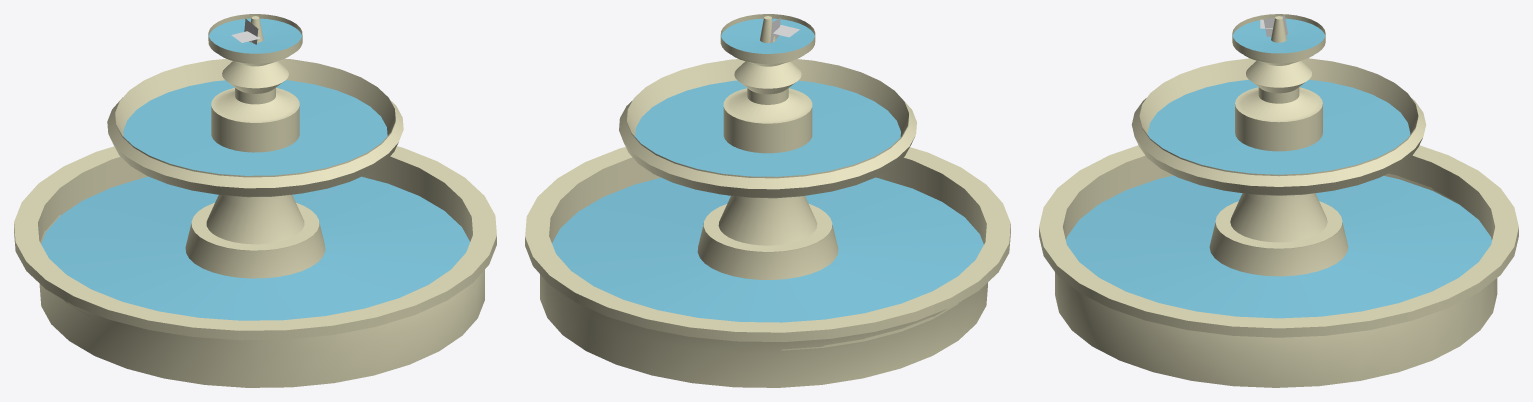
File: fontijn.fbx
3 renders of one model, left to right at view 1: azimuth 30°, elevation 25°; view 2: azimuth 150°, elevation 25°; view 3: azimuth 270°, elevation 25°, orthographic.
Visible parts, largest first — view 1: Circle, Circle.001, Circle.002, Circle.003; view 2: Circle, Circle.001, Circle.002, Circle.003; view 3: Circle, Circle.001, Circle.002, Circle.003.
Boxes of the visible parts, box(x1,y1,x2,y2) form: Circle: box(14, 14, 496, 387); Circle.001: box(41, 176, 469, 320); Circle.002: box(123, 80, 387, 175); Circle.003: box(208, 18, 301, 53); Circle: box(525, 14, 1010, 387); Circle.001: box(552, 177, 983, 322); Circle.002: box(635, 80, 900, 176); Circle.003: box(721, 18, 814, 53); Circle: box(1039, 14, 1518, 387); Circle.001: box(1066, 175, 1491, 318); Circle.002: box(1147, 79, 1410, 174); Circle.003: box(1233, 18, 1324, 53).
Bounding box in the file's own units: 4440 × 2797 × 4440.
